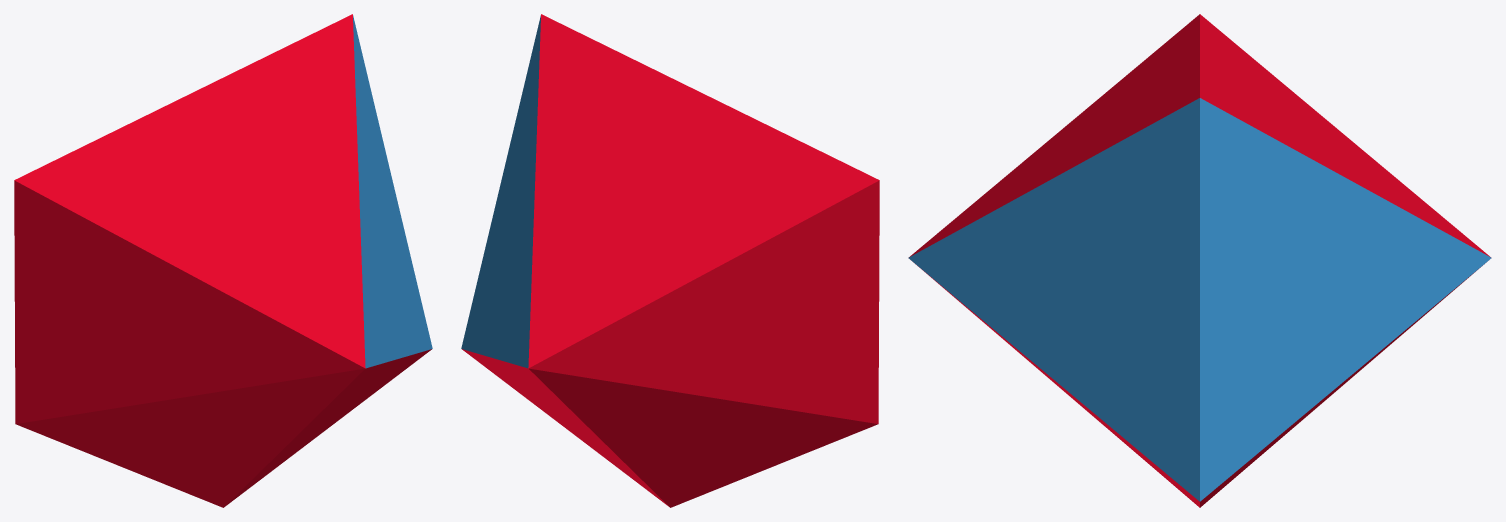
The model's file is blood.fbx.
3 views of the same model, side by side, from view 1: azimuth 30°, elevation 25°; view 2: azimuth 150°, elevation 25°; view 3: azimuth 270°, elevation 25° (orthographic). The views are drawn at different scales.
Parts seen in each view (by area): view 1: Icosphere; view 2: Icosphere; view 3: Icosphere.
Boxes of the visible parts, <box> form: Icosphere: <box>14,14,432,507</box>; Icosphere: <box>461,14,879,507</box>; Icosphere: <box>908,14,1491,507</box>.
Bounding box in the file's own units: 135 × 142 × 159.
